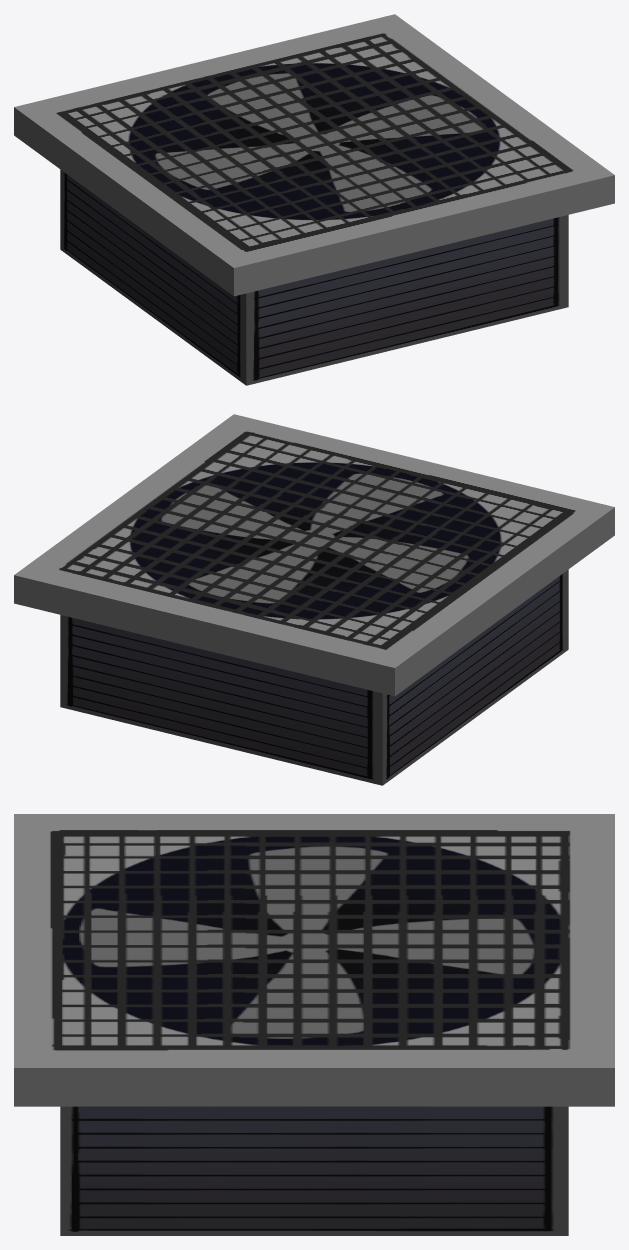
The model's file is prop.vent3.fbx.
3 renders of one model, top to bottom at view 1: azimuth 30°, elevation 25°; view 2: azimuth 150°, elevation 25°; view 3: azimuth 270°, elevation 25°, orthographic. The views are drawn at different scales.
Visible parts, largest first — view 1: Cube.003; view 2: Cube.003; view 3: Cube.003.
Part boxes in pixels (left/top/right/bottom): Cube.003: left=14, top=14, right=614, bottom=385; Cube.003: left=14, top=414, right=614, bottom=785; Cube.003: left=14, top=814, right=614, bottom=1235.
Size of the model in its own units: 236 by 81.31 by 236.
